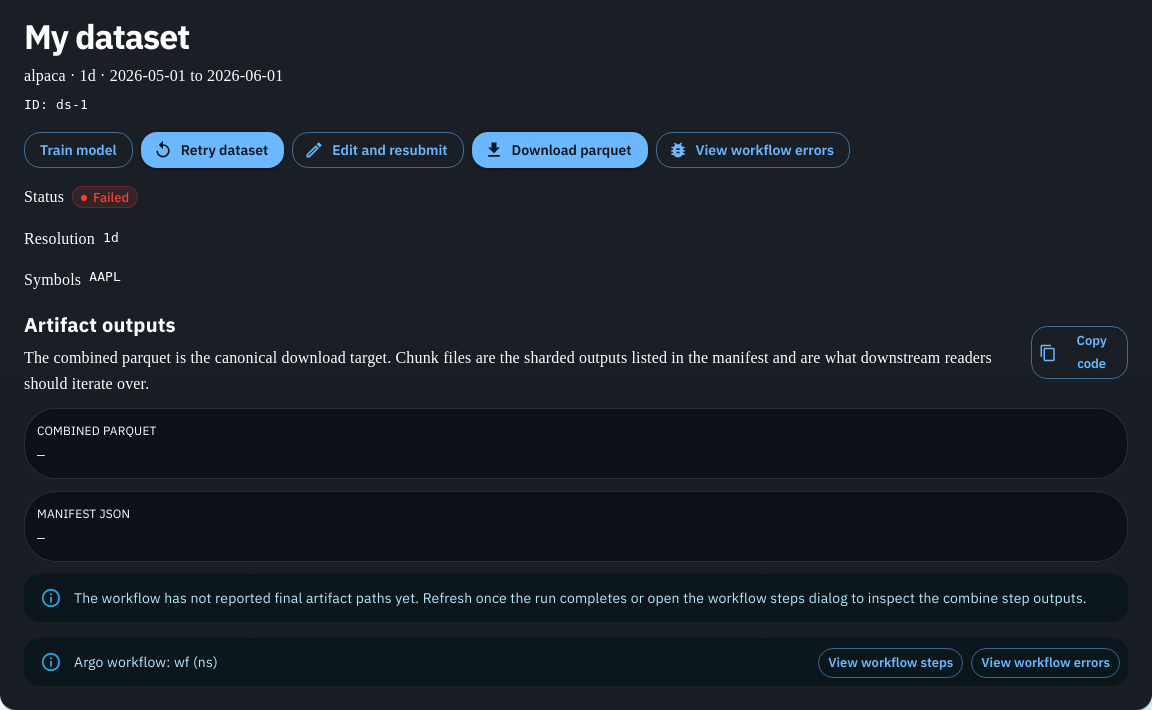
it: DatasetDetailPage › opens the workflow steps dialog from the detail page
(page scrolled)
What coordinates should you click on to do the following:
click the button "View workflow steps"
I would click on:
 (891, 663)
Its box is [818,648,963,678].
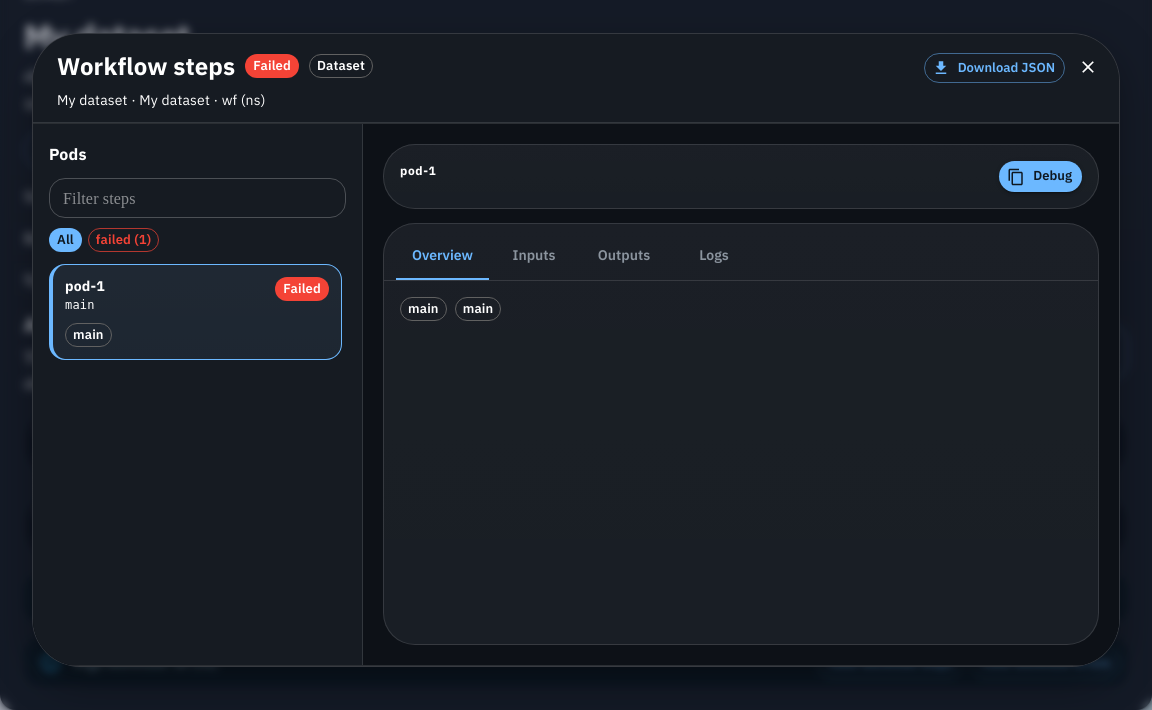
Expected: the dialog "Workflow steps" is shown
Expected: the text "My dataset · My dataset · wf (ns)" is shown, [57,91,266,109]
